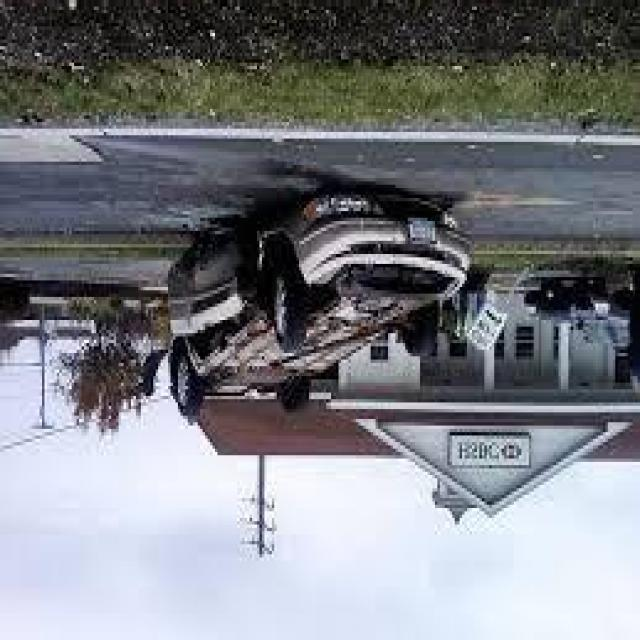severe: (162, 182, 471, 432)
